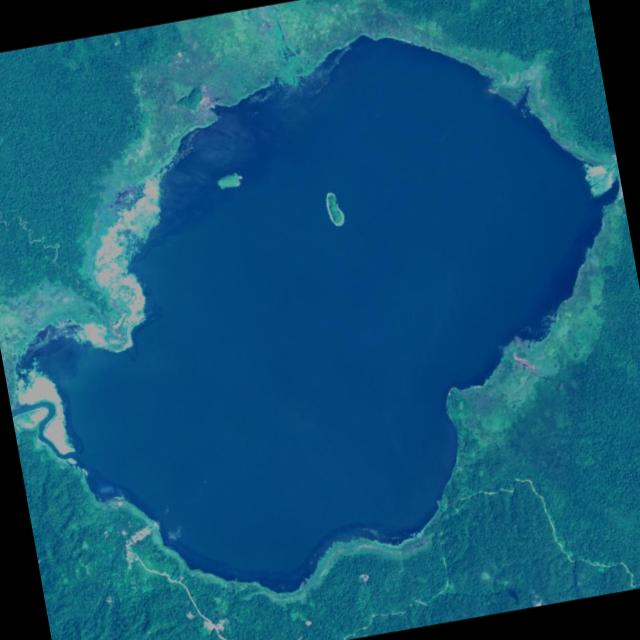water: (16, 37, 602, 590)
